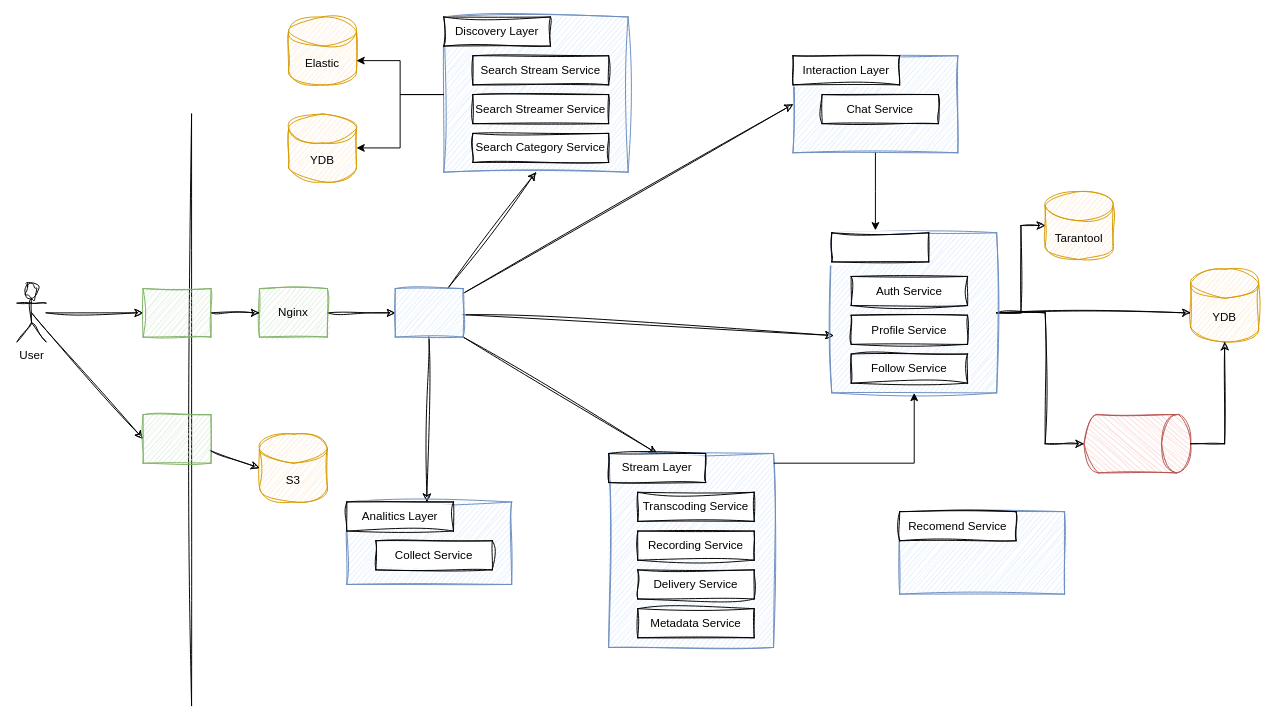
Image size: 1276x724. Some labels were removed from this diagram. Here are the shapes that lost their labels. From the top down, the centre of each, then its label:
(880,247): User Layer
(176,312): L3 balancer
(428,312): API Gateway
(176,438): CDN
(1137,443): YDB topics
